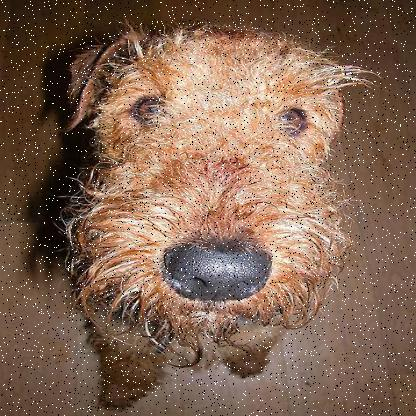dog: (32, 12, 356, 404)
